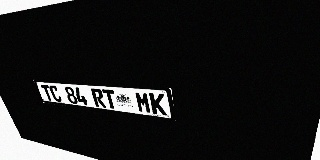plate: (33, 80, 175, 121)
